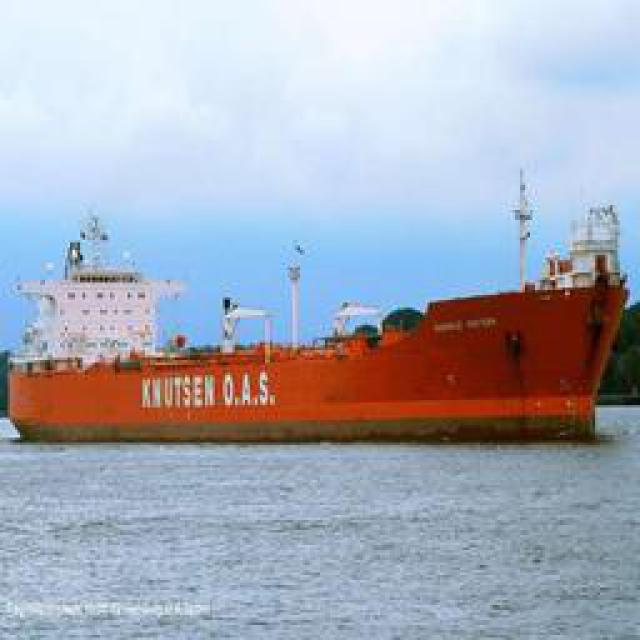Ship: (6, 164, 634, 453)
